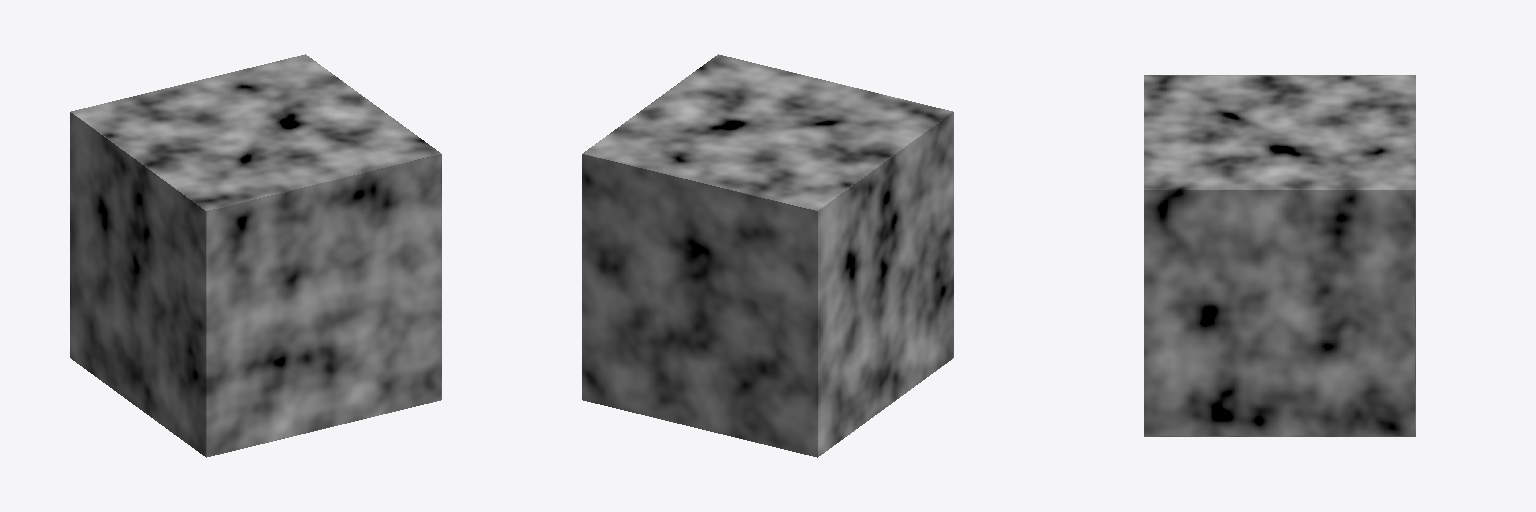
3 views of the same model, side by side, from view 1: azimuth 30°, elevation 25°; view 2: azimuth 150°, elevation 25°; view 3: azimuth 270°, elevation 25° (orthographic).
Parts seen in each view (by area): view 1: Cube; view 2: Cube; view 3: Cube.
Part boxes in pixels (x1,y1,x2,y2): Cube: (70, 54, 441, 457); Cube: (582, 54, 953, 457); Cube: (1144, 75, 1415, 436).
Size of the model in its own units: 2 by 2 by 2.
1 materials, 1 textured.